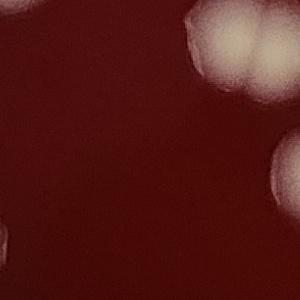colony: (183, 0, 279, 110), (239, 0, 300, 113), (264, 124, 300, 242), (0, 197, 17, 279), (0, 0, 55, 21)
